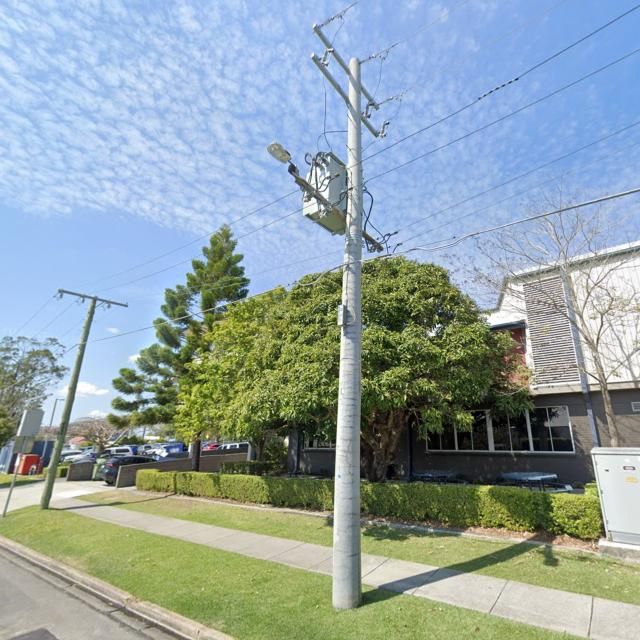HV-transmission: (313, 3, 402, 138)
concrete-pole: (330, 58, 362, 608)
crossarm: (287, 165, 384, 254), (310, 52, 381, 138), (314, 23, 381, 111), (57, 288, 130, 310)
streetlight: (267, 141, 293, 166)
timber-pole: (39, 296, 98, 510)
transformer: (304, 152, 349, 239)
